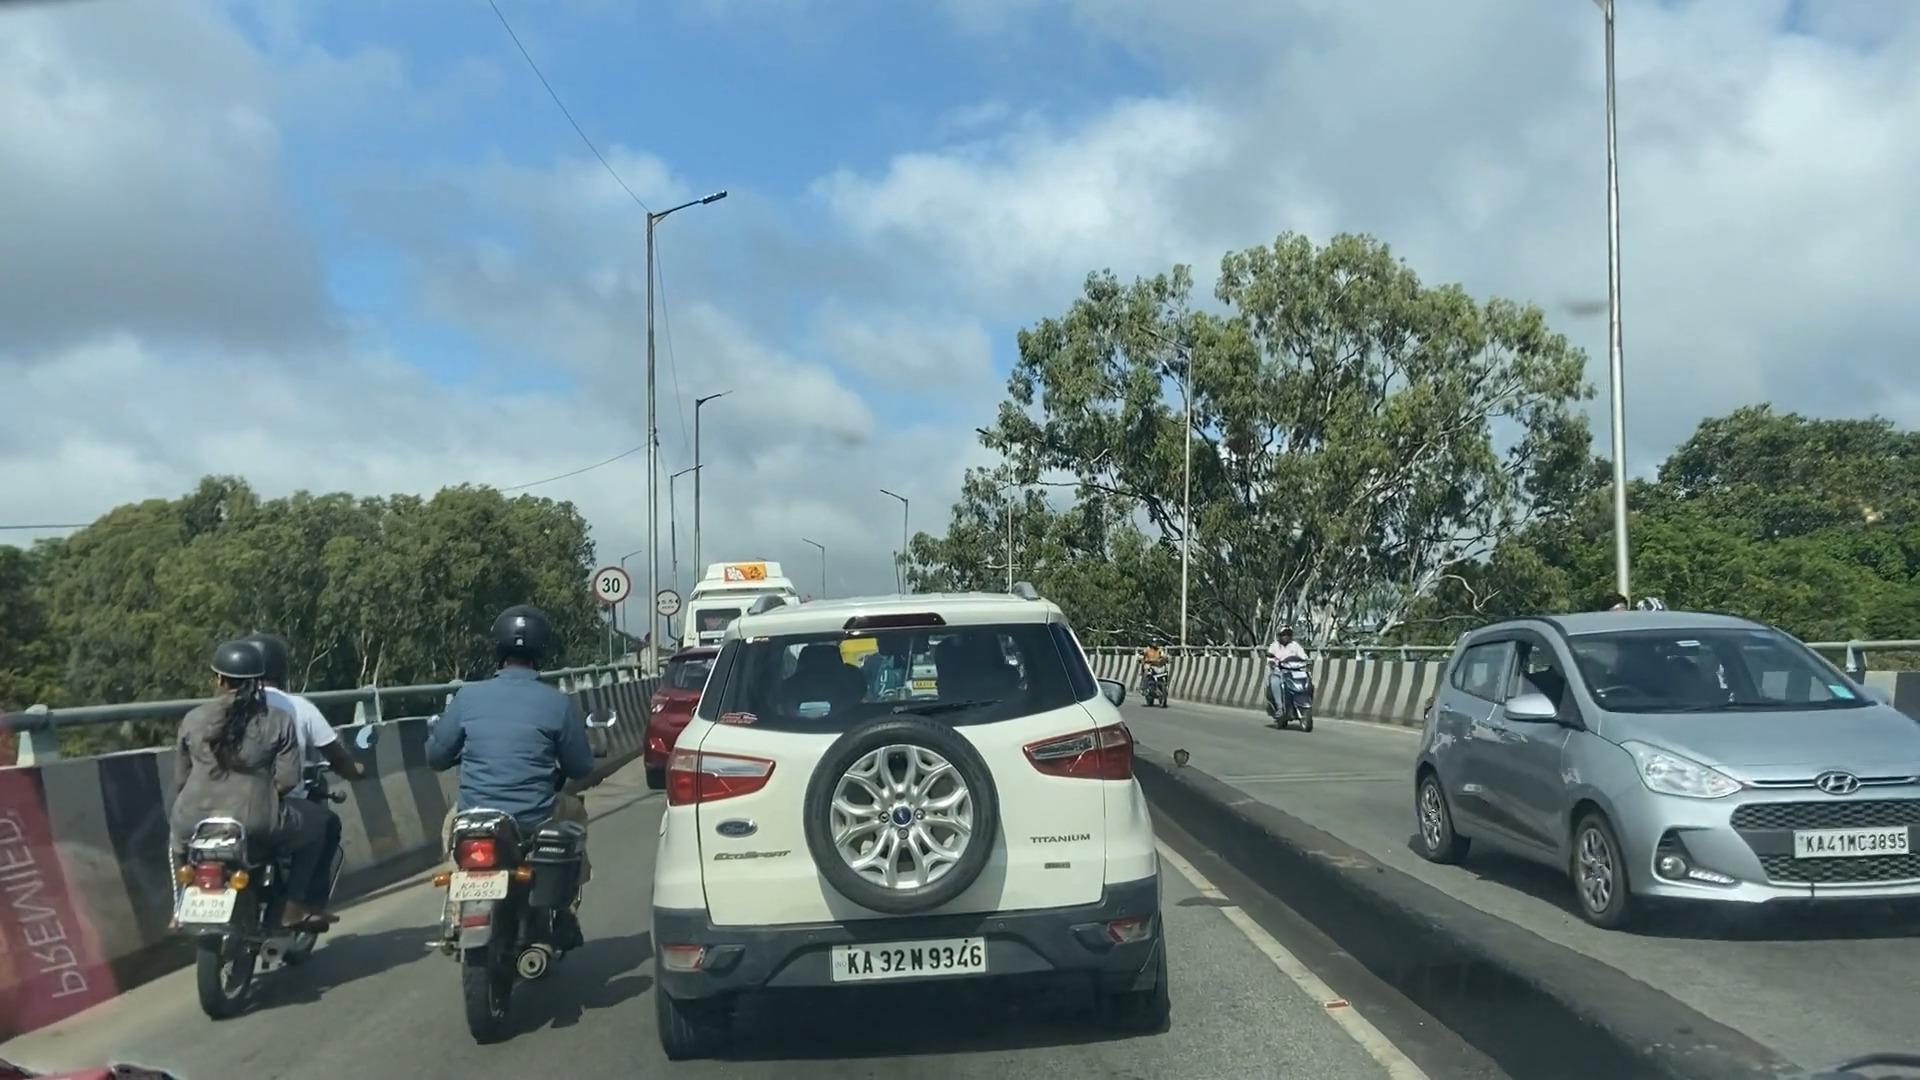LMV: (636, 591, 1150, 1059), (431, 596, 589, 1019), (166, 642, 339, 1017)
